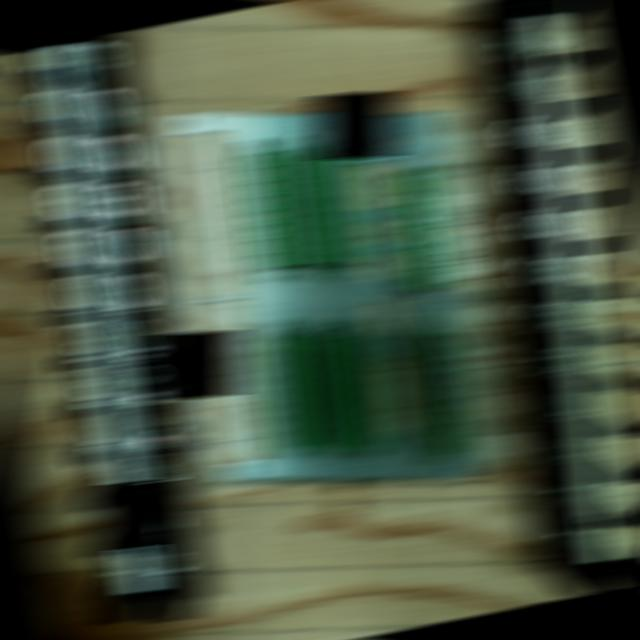Flathead_Block: (496, 0, 640, 595)
Phillips_Block: (13, 37, 198, 633)
Terminal_1: (411, 327, 469, 459), (393, 164, 450, 294)
Terminal_2: (259, 329, 315, 454), (274, 143, 329, 269), (298, 331, 353, 455), (337, 331, 391, 455), (312, 145, 366, 269)
